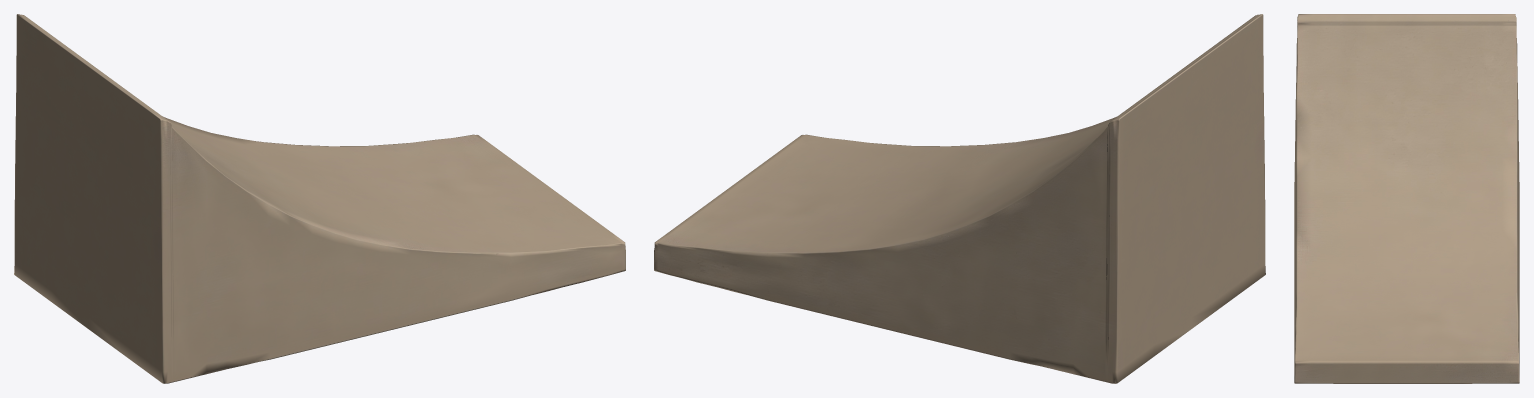
Rendered from ramp_01.glb.
3 views of the same model, side by side, from view 1: azimuth 30°, elevation 25°; view 2: azimuth 150°, elevation 25°; view 3: azimuth 270°, elevation 25° (orthographic). The views are drawn at different scales.
Parts seen in each view (by area): view 1: tripo_node_7de30f9b-d357-4aca-9941-50bfcc693b9b; view 2: tripo_node_7de30f9b-d357-4aca-9941-50bfcc693b9b; view 3: tripo_node_7de30f9b-d357-4aca-9941-50bfcc693b9b.
Boxes of the visible parts, <box> form: tripo_node_7de30f9b-d357-4aca-9941-50bfcc693b9b: <box>14,14,625,383</box>; tripo_node_7de30f9b-d357-4aca-9941-50bfcc693b9b: <box>654,14,1265,383</box>; tripo_node_7de30f9b-d357-4aca-9941-50bfcc693b9b: <box>1294,14,1519,383</box>.
Size of the model in its own units: 0.998 by 0.5449 by 0.5566.
Materials: 1 (1 with a texture image).
